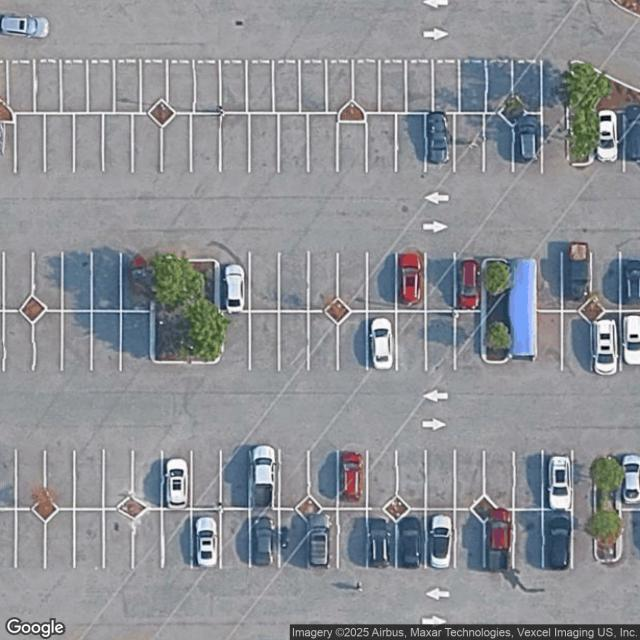car: (485, 507, 513, 572), (547, 454, 574, 514), (252, 444, 276, 511), (396, 250, 424, 306), (545, 515, 574, 569), (428, 510, 454, 570), (567, 239, 592, 301), (593, 318, 618, 379), (397, 515, 423, 571), (193, 516, 220, 568), (370, 315, 395, 370), (128, 253, 152, 310), (367, 516, 392, 568), (426, 114, 452, 163), (165, 457, 189, 510), (307, 515, 331, 568), (252, 514, 275, 567), (223, 262, 247, 312), (340, 448, 362, 500), (598, 109, 619, 163), (620, 453, 640, 506), (460, 260, 480, 311), (519, 114, 540, 162), (622, 312, 640, 367), (625, 108, 640, 162), (623, 256, 640, 303)
objects: (151, 260, 223, 364), (569, 62, 639, 163), (510, 258, 537, 359), (483, 260, 510, 360), (594, 461, 620, 561), (499, 93, 529, 126), (19, 296, 49, 325), (148, 99, 177, 128), (578, 296, 606, 325), (324, 296, 351, 325), (383, 494, 410, 522), (470, 495, 497, 522), (296, 495, 322, 523), (118, 497, 150, 519), (32, 498, 59, 522), (339, 100, 366, 122), (0, 100, 16, 122)
stall: (309, 449, 339, 509), (308, 253, 338, 312), (16, 451, 46, 510), (104, 449, 134, 508), (132, 449, 162, 508), (484, 450, 514, 509), (514, 113, 544, 172), (162, 113, 192, 172), (103, 509, 133, 568), (453, 511, 483, 570), (366, 509, 396, 568), (3, 312, 33, 371), (280, 509, 310, 568), (278, 113, 308, 171), (366, 114, 396, 172), (44, 114, 74, 172), (74, 114, 104, 172), (190, 114, 220, 172), (219, 114, 249, 172), (279, 252, 309, 310), (424, 113, 454, 171), (396, 114, 426, 172), (426, 254, 456, 312), (426, 311, 456, 369), (367, 311, 397, 369), (121, 312, 151, 370), (62, 251, 92, 309), (91, 252, 121, 310), (160, 451, 190, 509), (594, 109, 624, 167), (544, 452, 574, 510), (513, 451, 543, 509), (338, 510, 368, 568), (73, 510, 103, 568), (160, 509, 190, 567), (190, 510, 220, 568), (309, 112, 339, 170), (338, 251, 367, 311), (337, 312, 367, 370), (45, 509, 75, 567), (133, 510, 163, 568), (309, 511, 339, 569), (591, 311, 621, 369), (397, 509, 427, 567), (307, 313, 337, 371), (561, 312, 591, 370), (15, 509, 45, 567), (455, 450, 484, 509), (280, 449, 309, 508), (3, 251, 32, 310), (561, 253, 590, 312), (33, 251, 62, 310), (132, 449, 161, 508), (396, 450, 425, 509), (592, 252, 621, 311), (46, 450, 75, 509), (484, 113, 513, 172), (15, 114, 45, 171), (102, 115, 132, 172), (248, 114, 278, 171), (396, 254, 426, 311), (366, 253, 396, 310), (454, 113, 484, 170), (279, 312, 309, 369), (396, 313, 426, 370), (120, 252, 150, 309), (248, 254, 278, 311), (249, 313, 279, 370), (62, 312, 92, 369), (91, 312, 121, 369), (250, 451, 280, 508), (219, 451, 249, 508), (192, 451, 222, 508), (337, 452, 367, 509), (425, 451, 455, 508), (74, 452, 104, 509), (542, 511, 572, 568), (248, 510, 278, 567), (425, 512, 455, 569), (513, 511, 543, 568), (218, 509, 248, 566), (219, 253, 249, 310), (367, 449, 396, 507), (485, 510, 514, 568), (33, 312, 62, 370), (133, 113, 162, 171), (140, 60, 168, 115), (223, 312, 250, 369), (455, 312, 482, 368), (352, 60, 381, 112), (513, 61, 542, 113), (456, 254, 482, 310), (167, 61, 194, 114), (34, 61, 62, 112), (300, 61, 328, 112), (246, 62, 274, 113), (544, 113, 568, 172), (379, 60, 406, 112), (406, 60, 433, 112), (434, 60, 461, 112), (459, 60, 486, 112), (272, 59, 299, 111), (7, 61, 34, 113), (337, 123, 366, 171), (327, 61, 353, 114), (220, 61, 247, 112), (87, 61, 114, 112), (114, 61, 141, 112), (193, 62, 220, 113), (537, 313, 561, 370), (62, 60, 88, 112), (543, 59, 568, 113), (487, 60, 512, 114), (538, 255, 562, 311), (574, 508, 596, 567), (620, 452, 640, 510), (620, 253, 640, 311), (574, 452, 594, 508), (622, 310, 639, 372), (620, 510, 640, 560), (622, 111, 640, 166), (0, 449, 16, 510), (0, 510, 15, 568)
